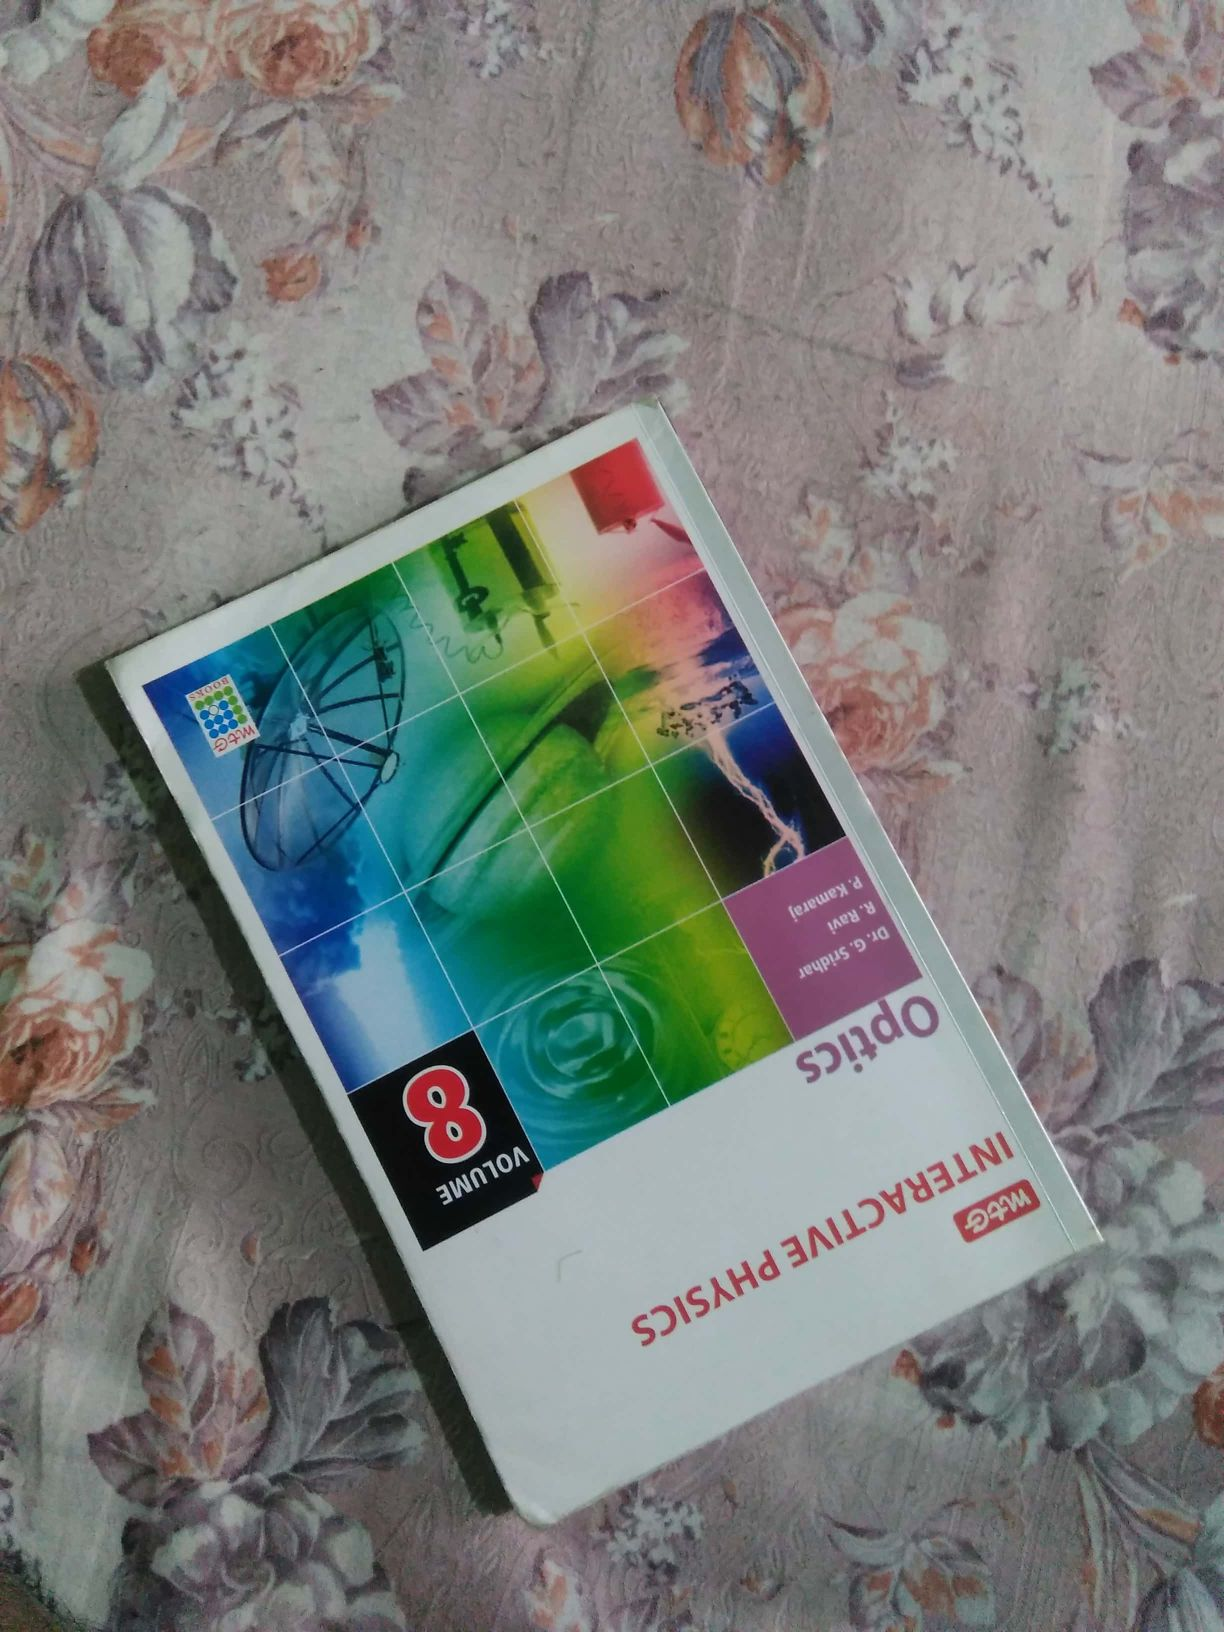optics: (100, 383, 1151, 1453)
